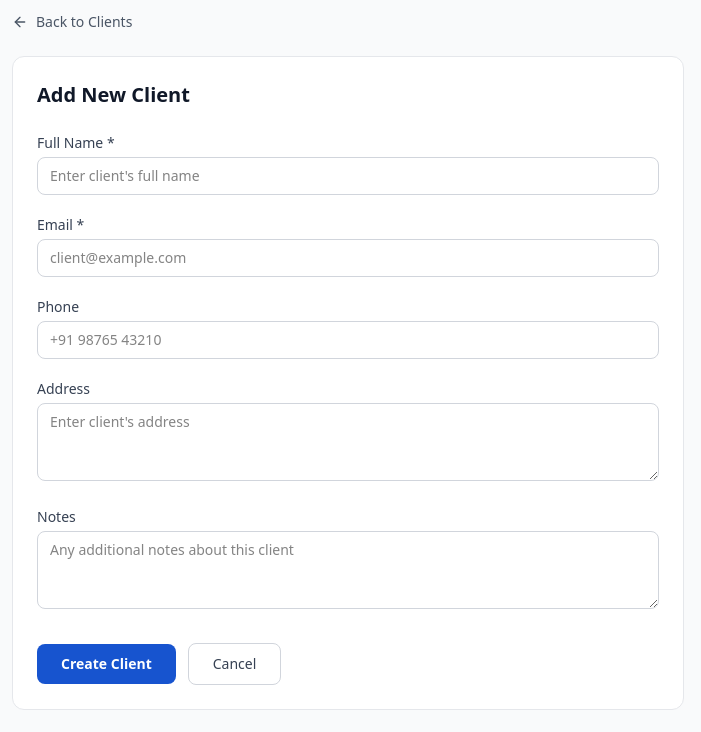
Test: ClientForm › shows validation errors for required fields
Step 1. Click the button "Create Client" → (106, 664), box [37,644,176,684]
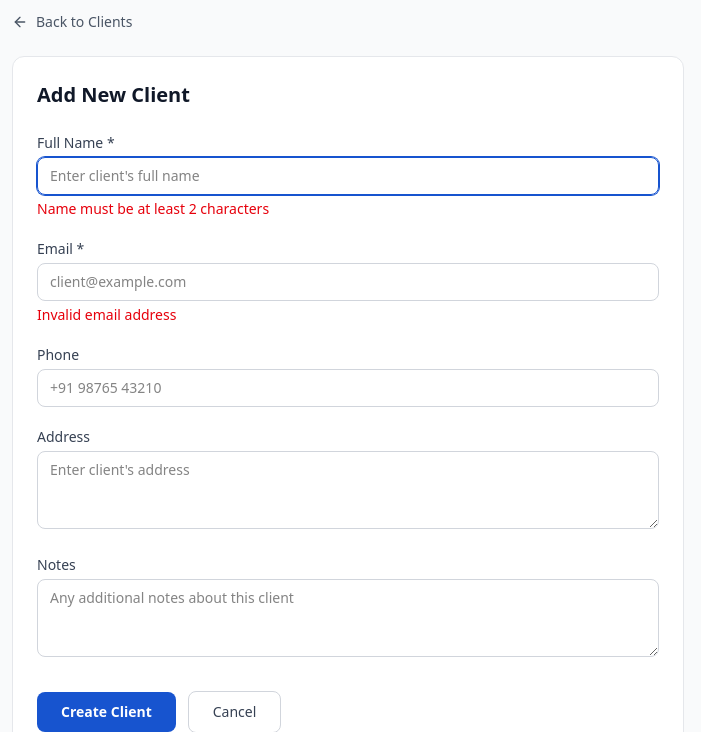
Expected: the text "Name must be at least 2 characters" is shown, [37,199,269,218]
Expected: the text "Invalid email address" is shown, [37,305,176,324]
